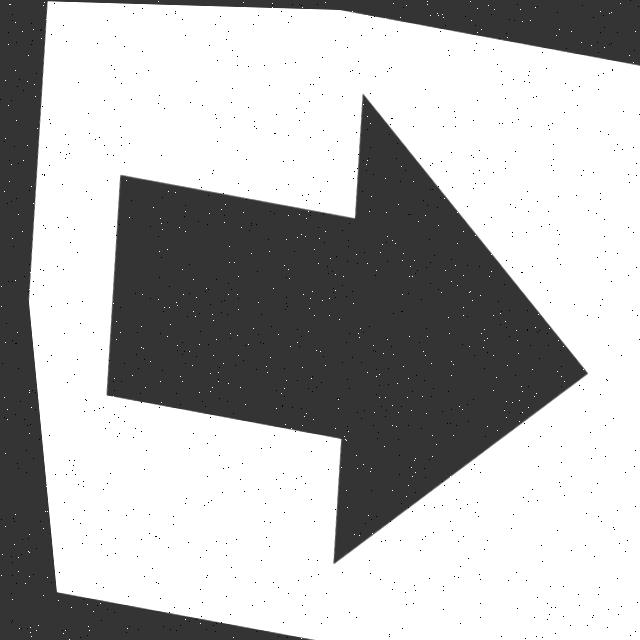RIGHT: (99, 95, 579, 558)
